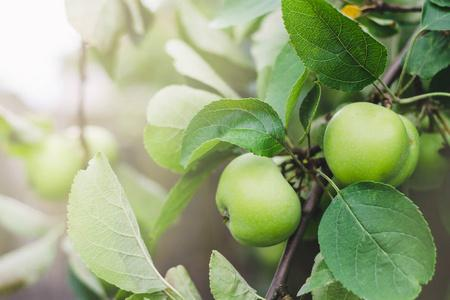unripe: (316, 90, 429, 195), (204, 144, 305, 251)
